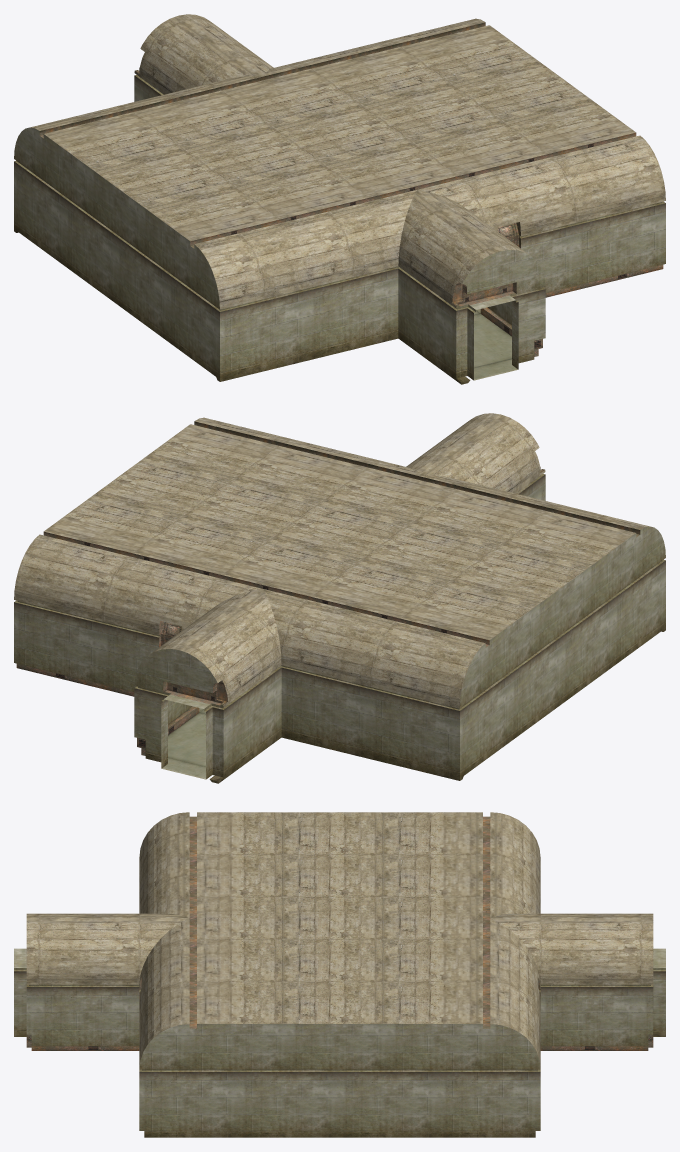
Rendered from poi_all_bunker_allum_mine_r13_smallroom13_mesh_r13.fbx.
3 renders of one model, top to bottom at view 1: azimuth 30°, elevation 25°; view 2: azimuth 150°, elevation 25°; view 3: azimuth 270°, elevation 25°, orthographic. The views are drawn at different scales.
Visible parts, largest first — view 1: mesh_node; view 2: mesh_node; view 3: mesh_node.
Boxes of the visible parts, box(x1,y1,x2,y2) form: mesh_node: box(14, 14, 665, 384); mesh_node: box(14, 413, 665, 783); mesh_node: box(14, 812, 665, 1137).
Bounding box in the file's own units: 20 × 5.1 × 26.
